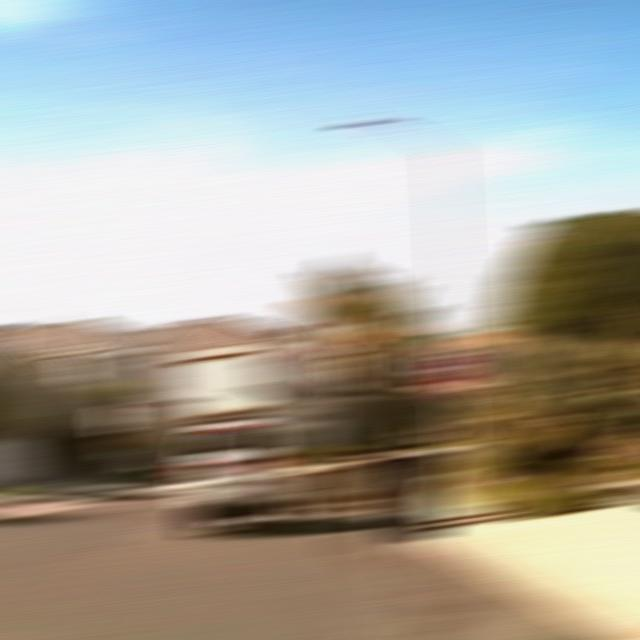stop: (430, 354, 476, 387)
